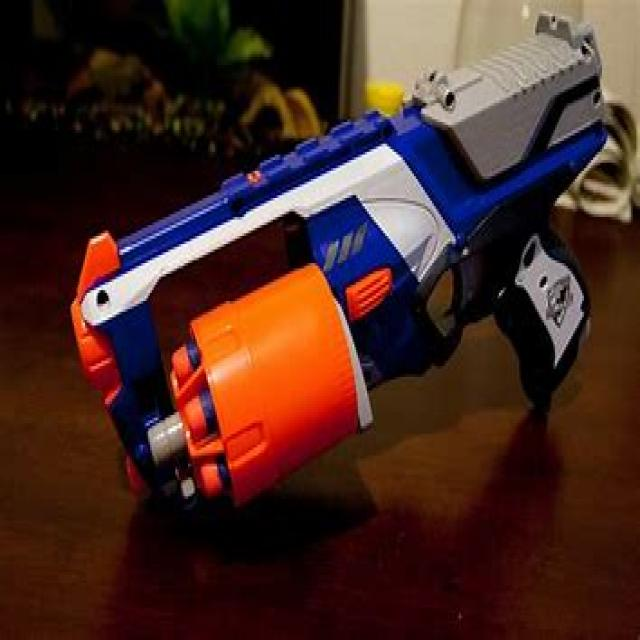nerf-maverik: (66, 7, 614, 537)
